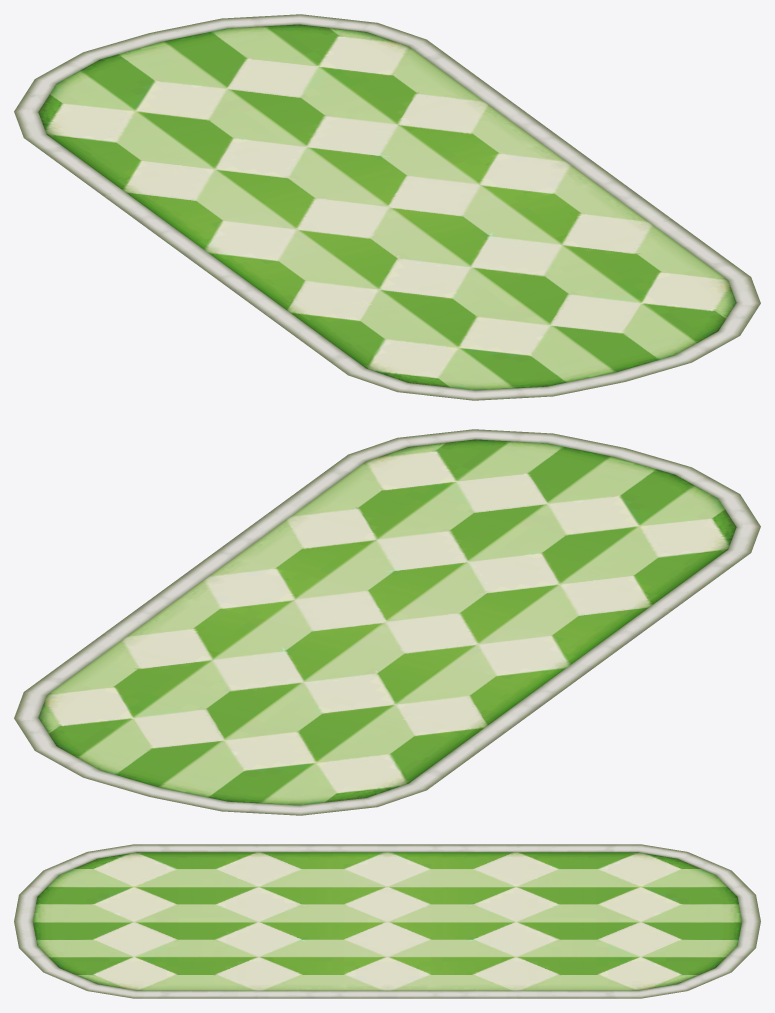
File: my_sunshineresort_01_carpet_02.glb
3 views of the same model, one above another, from view 1: azimuth 30°, elevation 25°; view 2: azimuth 150°, elevation 25°; view 3: azimuth 270°, elevation 25° (orthographic). The views are drawn at different scales.
Visible parts, largest first — view 1: my_sunshineresort_01_carpet_02; view 2: my_sunshineresort_01_carpet_02; view 3: my_sunshineresort_01_carpet_02.
Boxes of the visible parts, left/top/right/bottom form: my_sunshineresort_01_carpet_02: left=14, top=14, right=760, bottom=400; my_sunshineresort_01_carpet_02: left=14, top=429, right=760, bottom=815; my_sunshineresort_01_carpet_02: left=14, top=844, right=760, bottom=998.
Size of the model in its own units: 0.00863 by 0 by 0.0177.
1 material, 1 textured.
